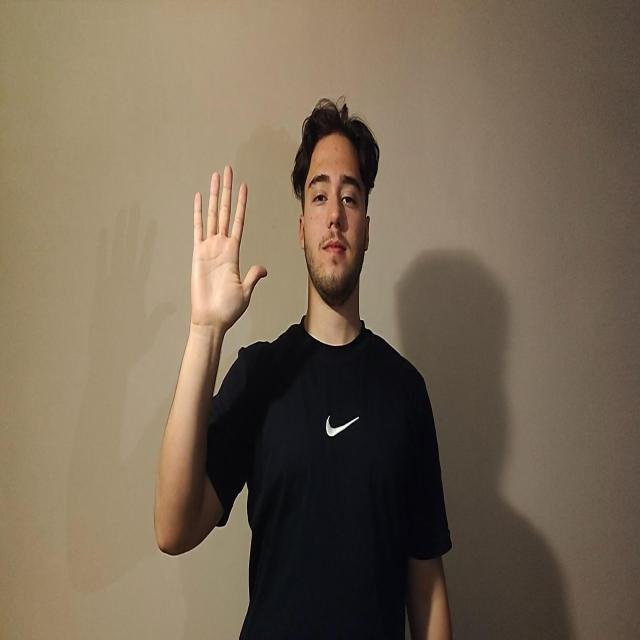hello: (189, 164, 268, 337)
